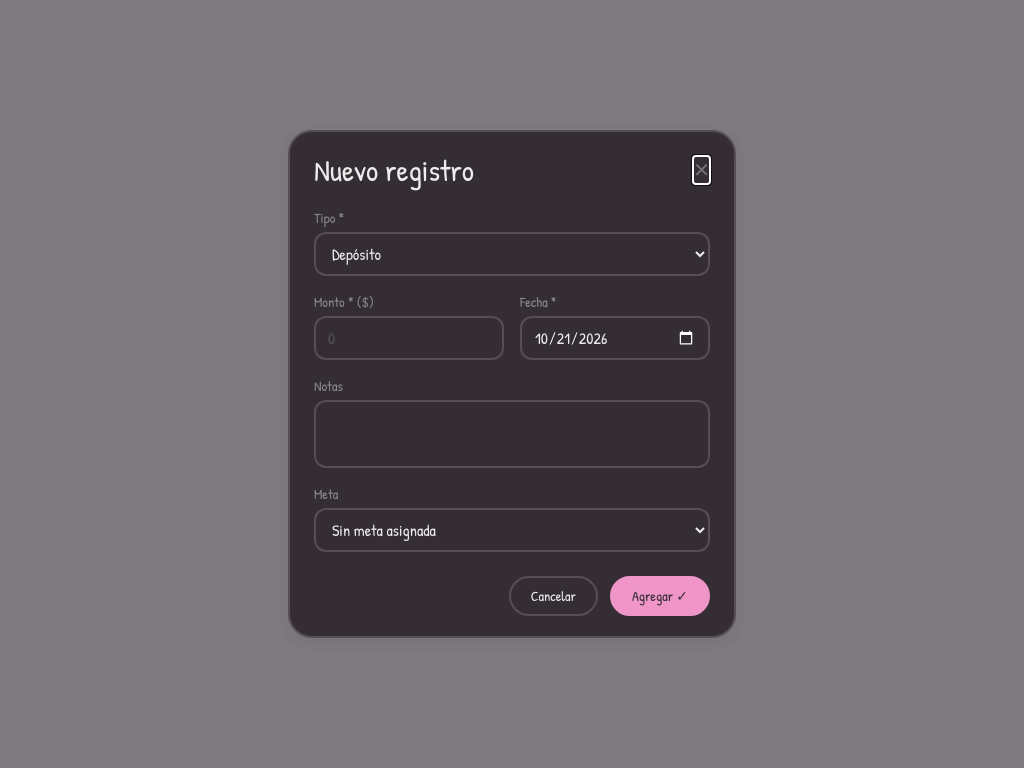
Test: AddEntryModal › hides the goal selector when type is switched to gasto
Select "Gasto" in the dropdown labelled "Tipo *": (512, 254) top-left (314, 232), bottom-right (710, 276)
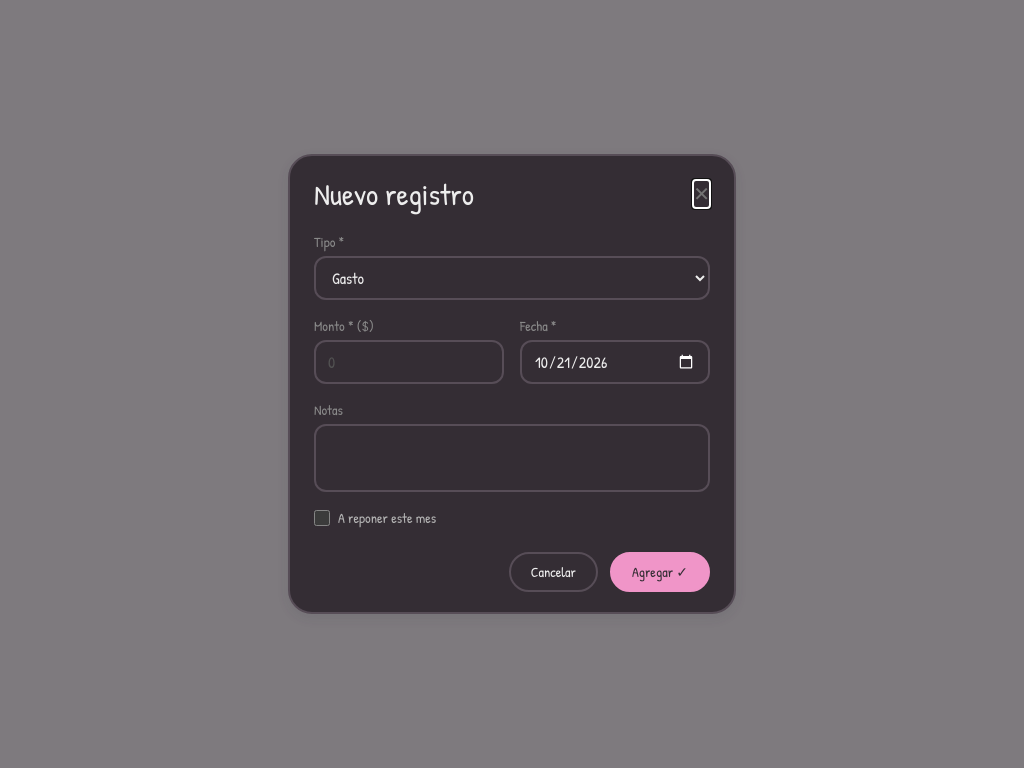
Result: the text labelled "Meta" is gone
